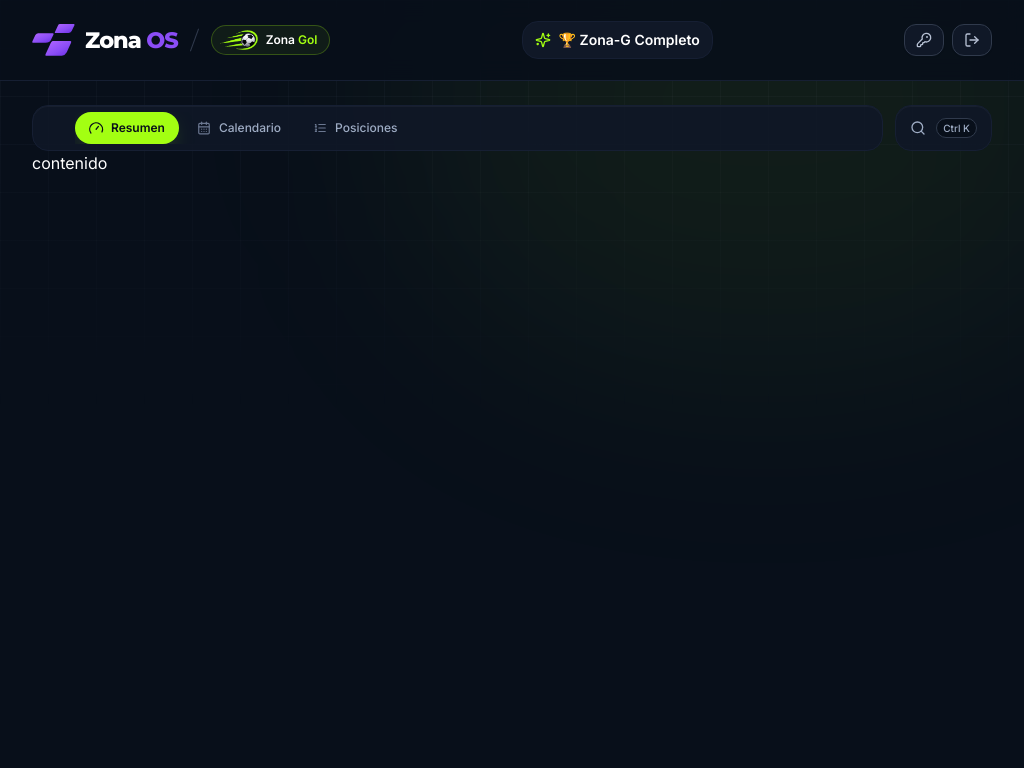
Test: dashboard navigation › jumps to a section from the Ctrl+K palette
Type keys "{Control>}k{/Control}"
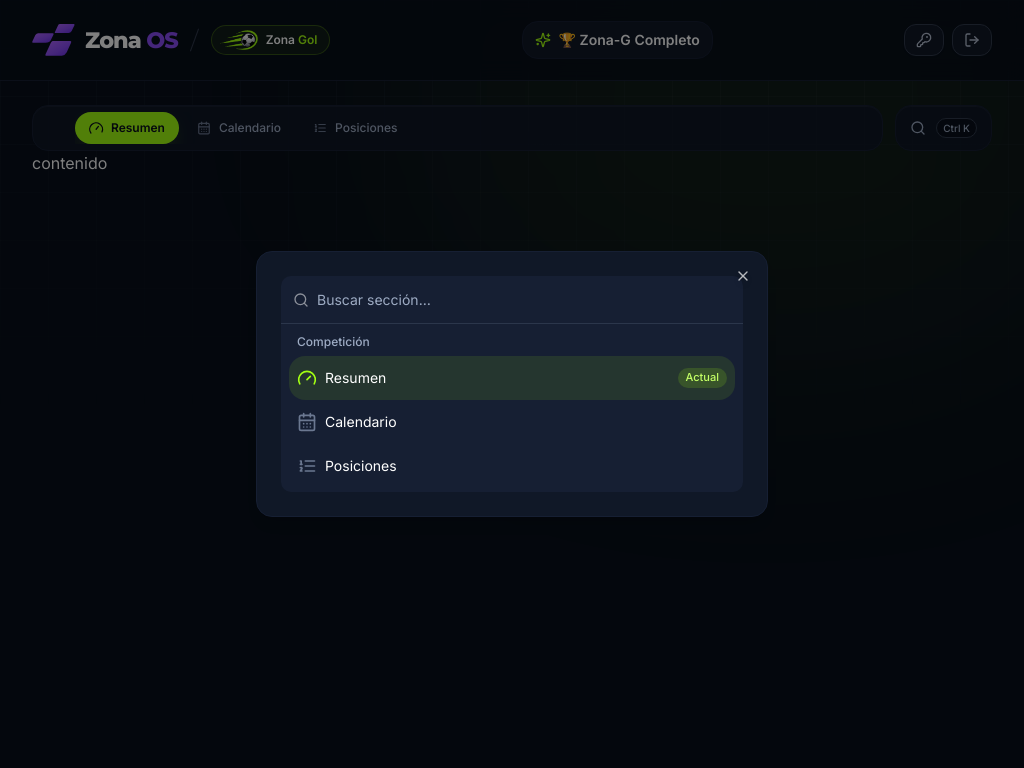
Type "posic" into the dropdown at (524, 300), box x1=317 y1=276 x2=731 y2=324
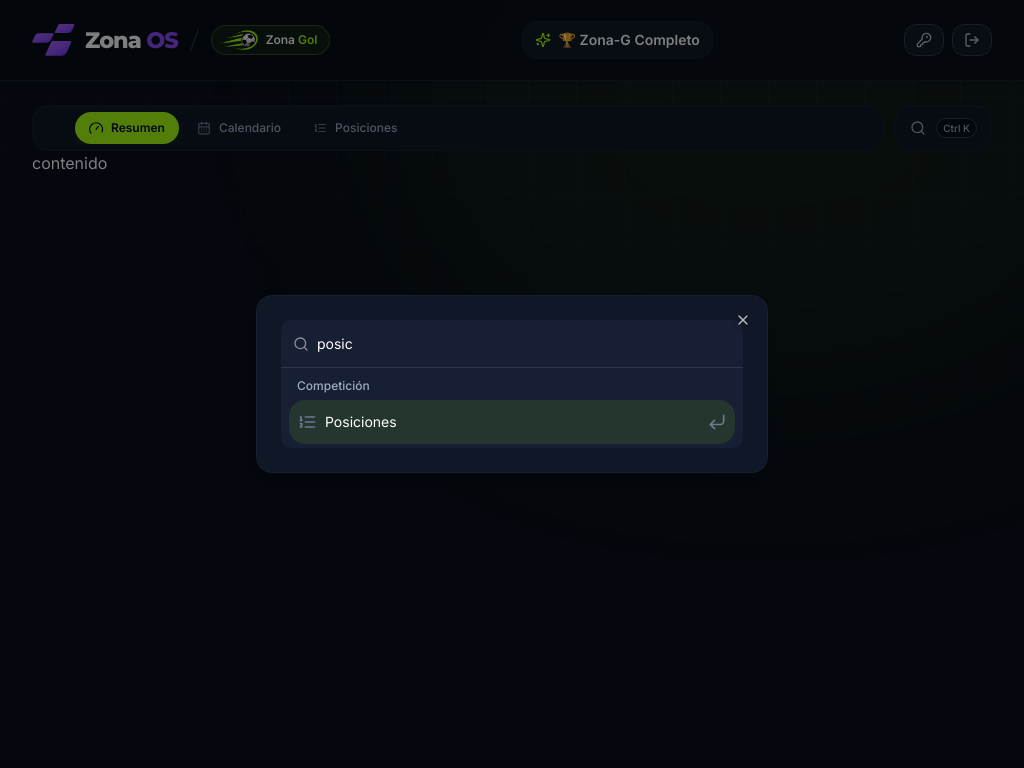
Click the option "Posiciones" at (361, 422), box x1=289 y1=400 x2=735 y2=444
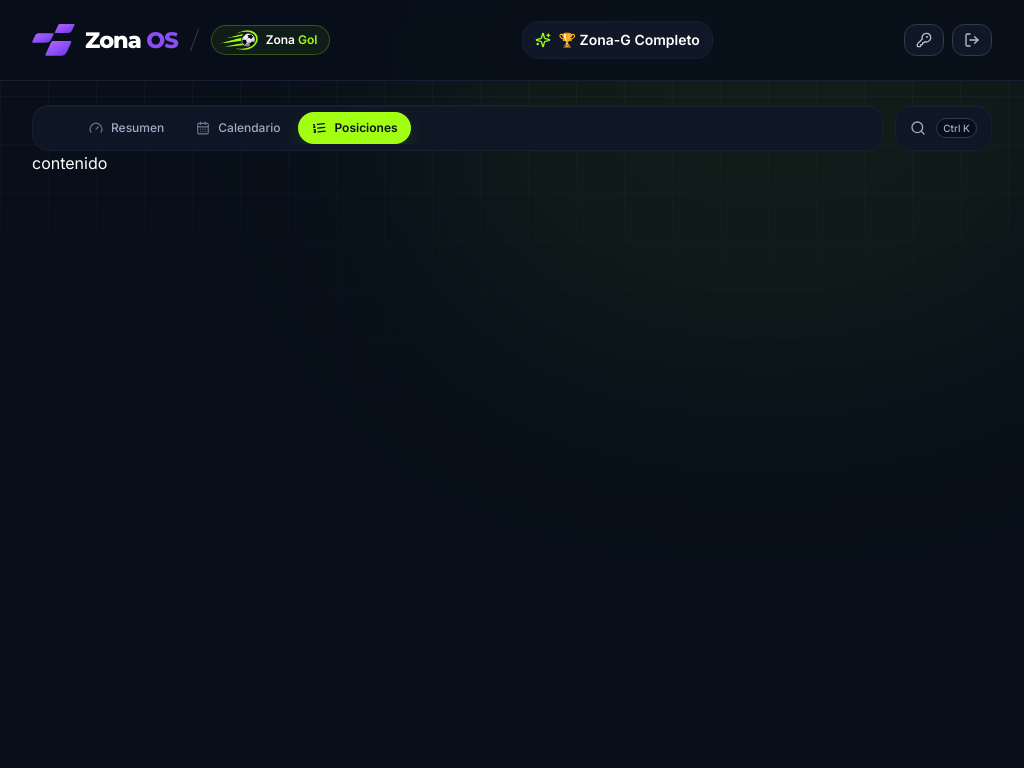
Now the link "Posiciones" is marked as current, box x1=311 y1=120 x2=398 y2=136
